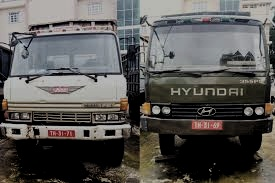plate: (192, 118, 225, 131), (45, 128, 75, 137)
